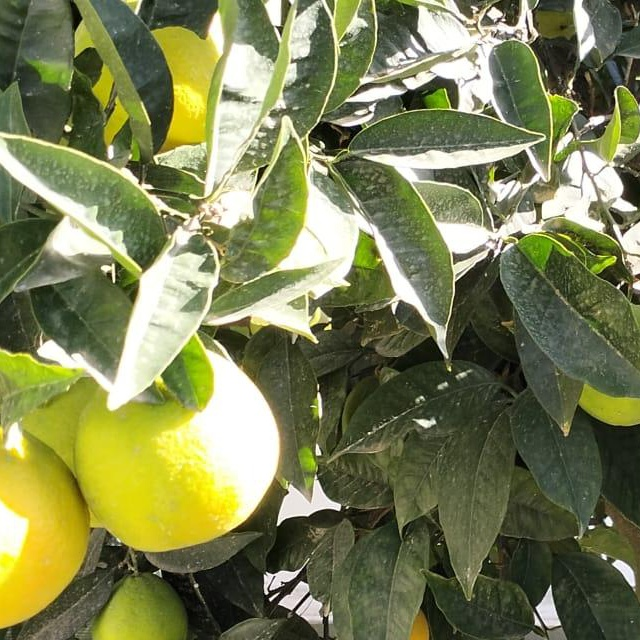orange: (68, 347, 284, 549), (68, 0, 228, 151), (0, 432, 87, 628), (6, 377, 106, 529), (572, 298, 640, 430), (88, 572, 190, 640), (390, 603, 432, 640)
